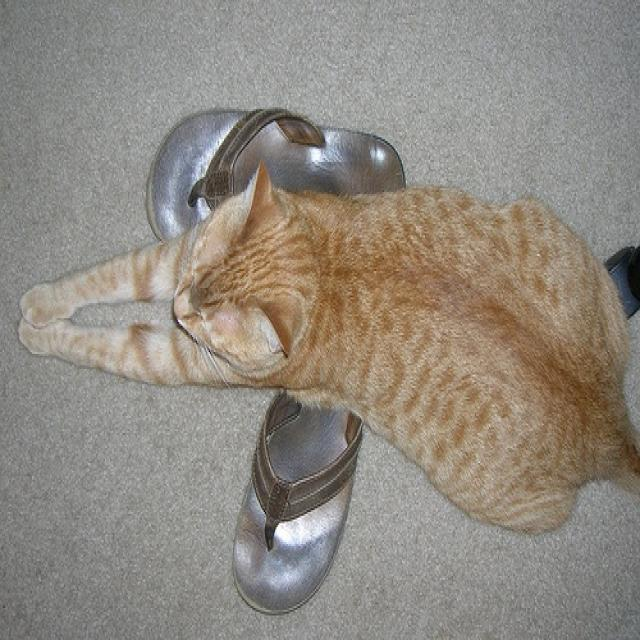cat: (18, 161, 640, 537)
